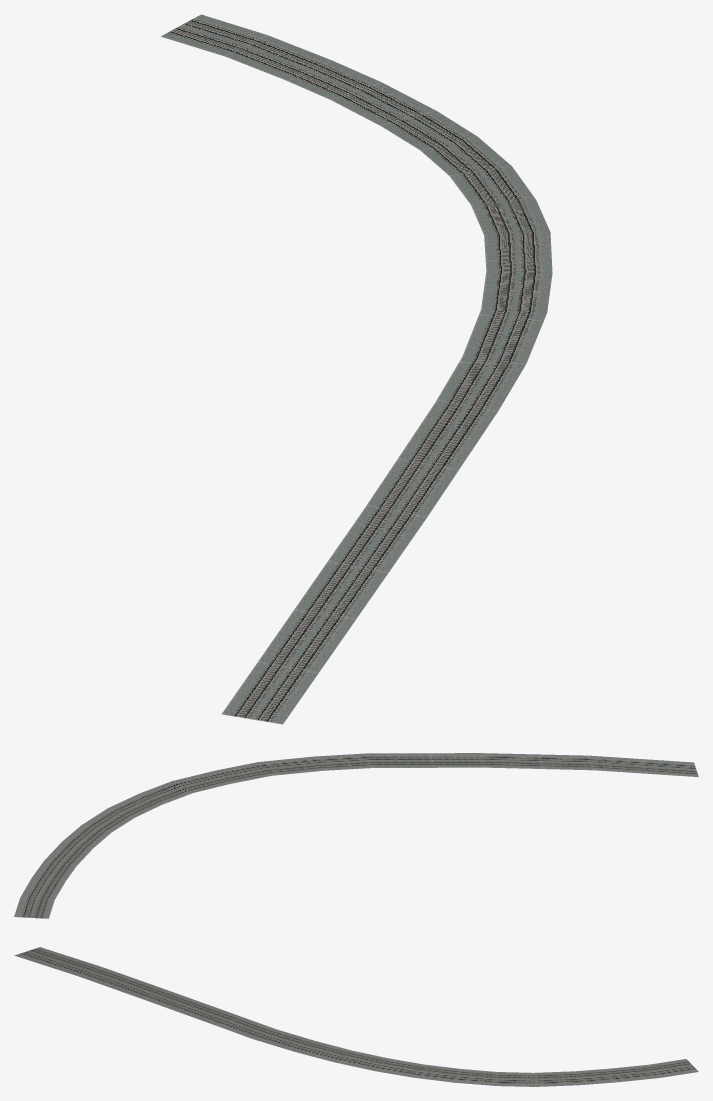
Rendered from lodcoe_traintrax_03.obj.
3 views of the same model, one above another, from view 1: azimuth 30°, elevation 25°; view 2: azimuth 150°, elevation 25°; view 3: azimuth 270°, elevation 25° (orthographic). The views are drawn at different scales.
Parts seen in each view (by area): view 1: LODcoe_traintrax_03; view 2: LODcoe_traintrax_03; view 3: LODcoe_traintrax_03.
Part boxes in pixels (bbox=[...]): LODcoe_traintrax_03: bbox=[161, 14, 552, 724]; LODcoe_traintrax_03: bbox=[14, 753, 698, 918]; LODcoe_traintrax_03: bbox=[14, 947, 698, 1086].
Bounding box in the file's own units: 137 × 13.9 × 228.
1 material, 1 textured.
